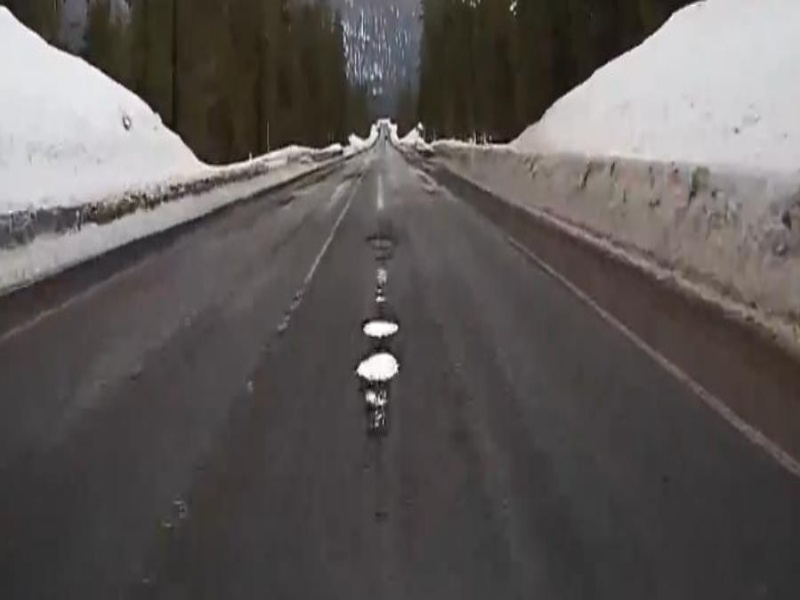pothole: (353, 347, 403, 384), (357, 314, 403, 340)
